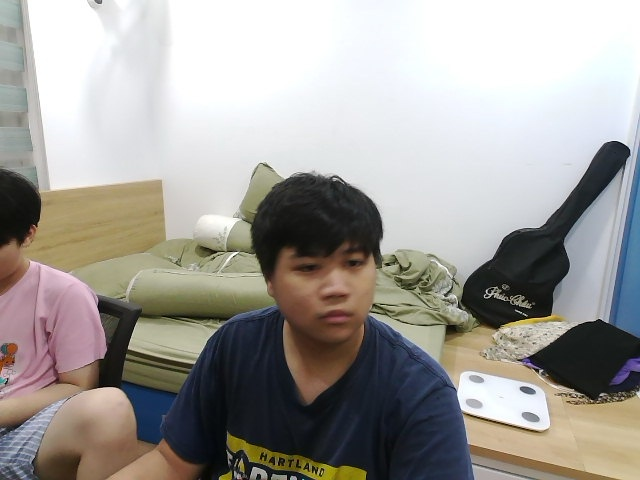face: (251, 174, 385, 344)
